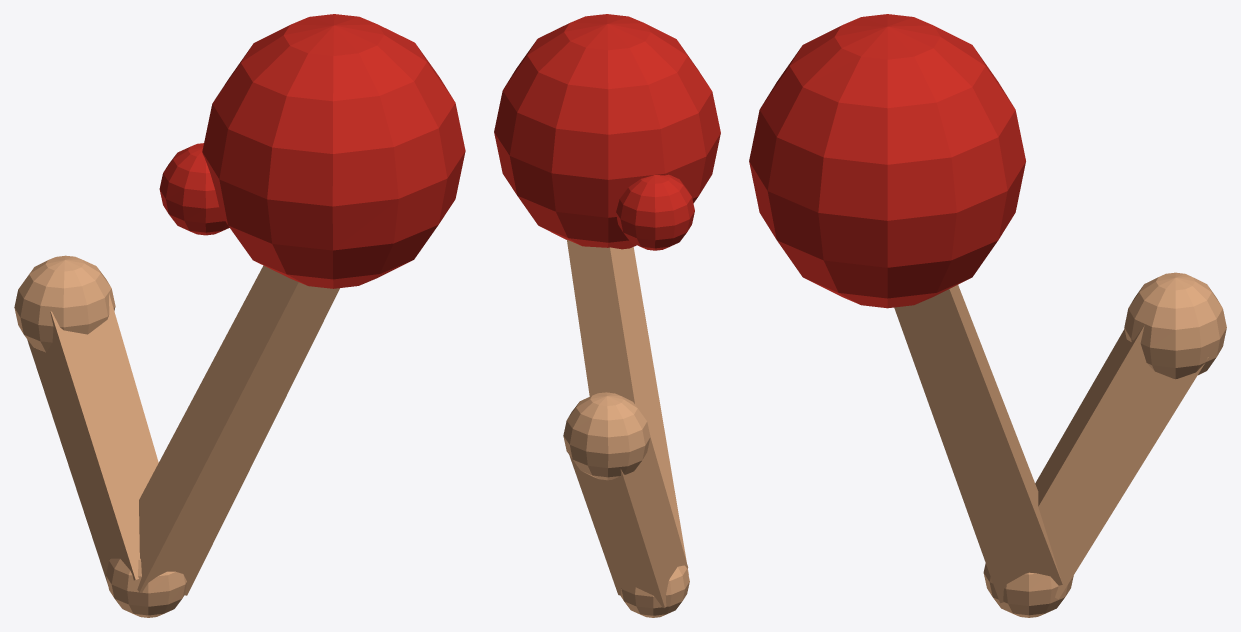
File: boxeador_estratega_right_arm.obj
3 views of the same model, side by side, from view 1: azimuth 30°, elevation 25°; view 2: azimuth 150°, elevation 25°; view 3: azimuth 270°, elevation 25° (orthographic). The views are drawn at different scales.
Visible parts, largest first — view 1: guante_R, antebrazo_R, brazo_R, hombro_R, pulgar_R, codo_R; view 2: guante_R, antebrazo_R, brazo_R, hombro_R, pulgar_R, codo_R; view 3: guante_R, antebrazo_R, brazo_R, hombro_R, codo_R.
Boxes of the visible parts, box(x1,y1,x2,y2) form: guante_R: box(202, 14, 465, 288); antebrazo_R: box(137, 265, 339, 595); brazo_R: box(27, 293, 158, 584); hombro_R: box(14, 255, 115, 352); pulgar_R: box(159, 143, 229, 235); codo_R: box(106, 558, 186, 617); guante_R: box(494, 14, 720, 249); antebrazo_R: box(567, 239, 688, 574); brazo_R: box(568, 437, 688, 607); hombro_R: box(563, 392, 650, 480); pulgar_R: box(616, 174, 694, 250); codo_R: box(621, 565, 689, 617); guante_R: box(749, 14, 1025, 308); antebrazo_R: box(894, 285, 1062, 603); brazo_R: box(1035, 325, 1208, 599); hombro_R: box(1124, 272, 1226, 379); codo_R: box(983, 563, 1073, 617).
Bounding box in the file's own units: 0.691 × 1.37 × 0.9126.
